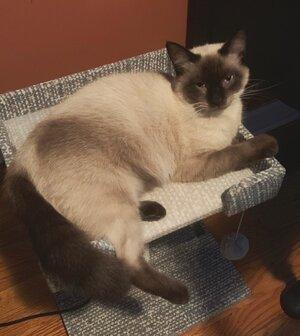siamese: (158, 22, 263, 126)
